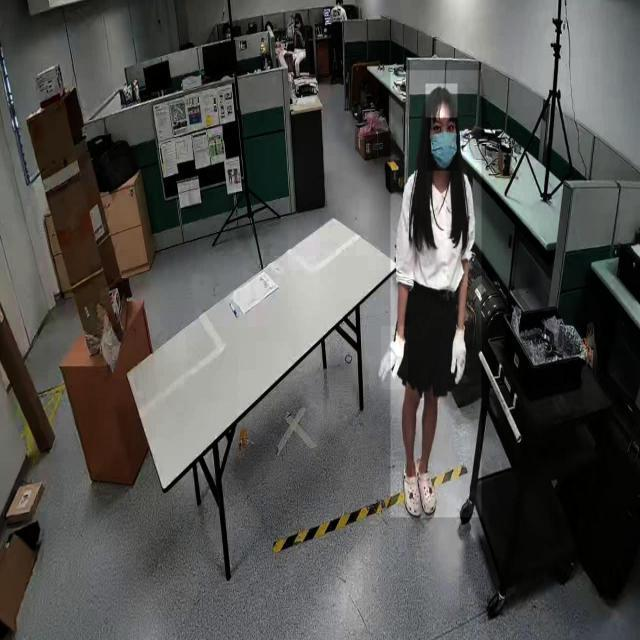gloves: (381, 326, 409, 390), (451, 317, 471, 399)
